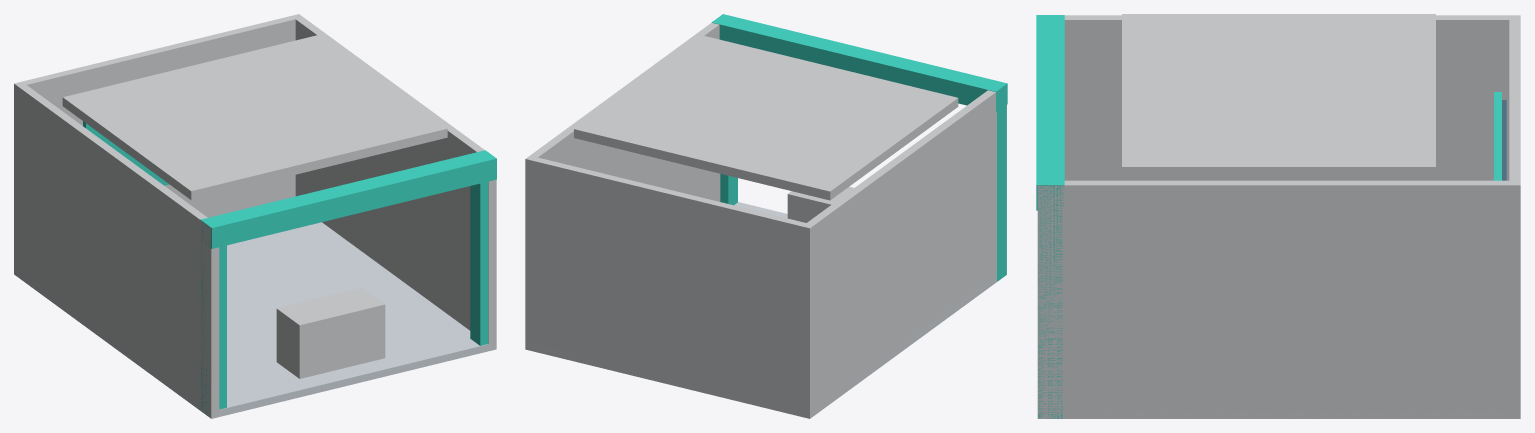
3 views of the same model, side by side, from view 1: azimuth 30°, elevation 25°; view 2: azimuth 150°, elevation 25°; view 3: azimuth 270°, elevation 25° (orthographic). The views are drawn at different scales.
Parts seen in each view (by area): view 1: Exhibition Booth Concept; view 2: Exhibition Booth Concept; view 3: Exhibition Booth Concept.
Boxes of the visible parts, x1,y1,x2,y2 form: Exhibition Booth Concept: (14,14,496,418); Exhibition Booth Concept: (525,14,1007,418); Exhibition Booth Concept: (1036,14,1520,418).
Bounding box in the file's own units: 5 × 3.34 × 6.02.
